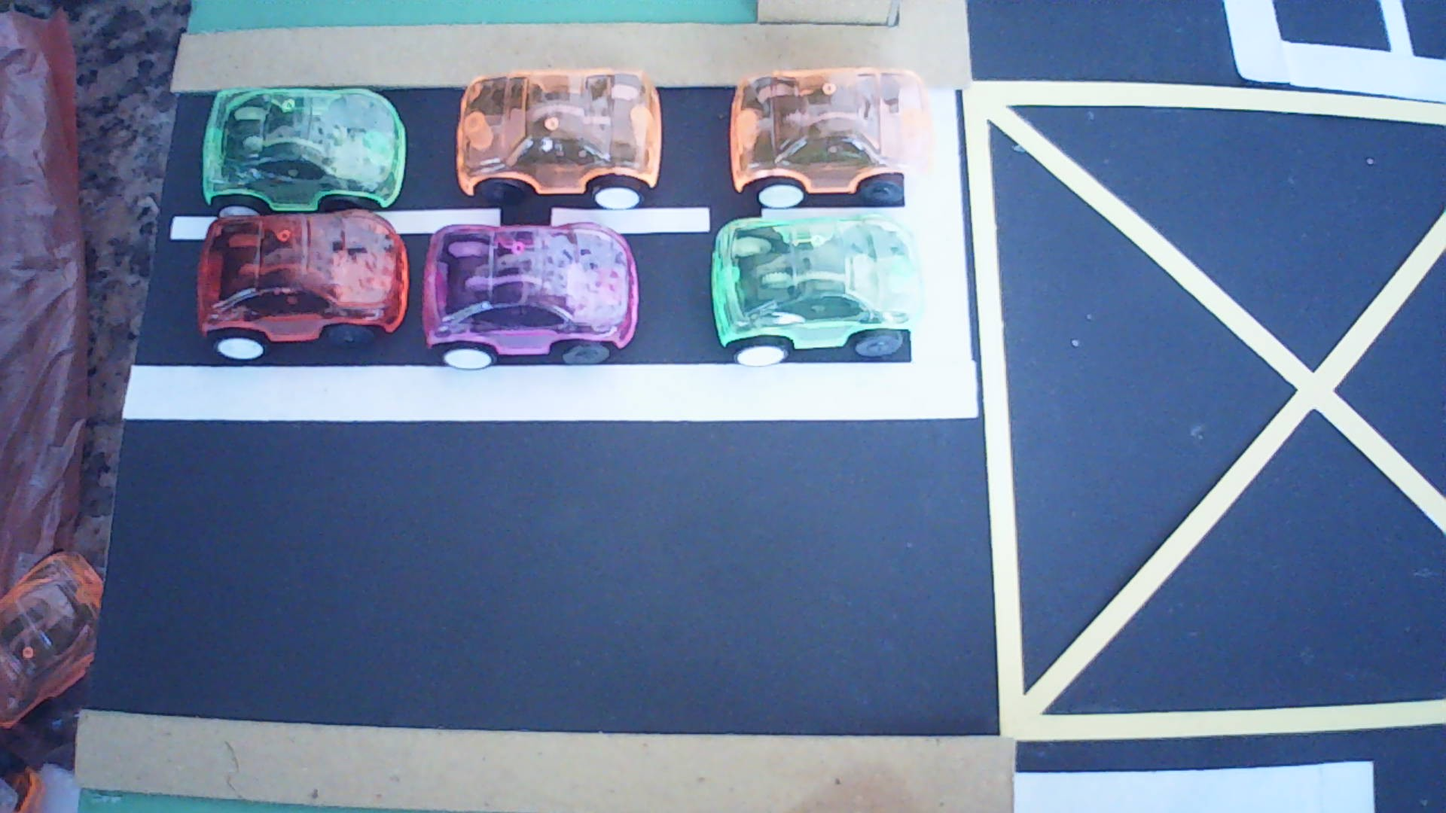Mobil hijau: (712, 215, 923, 366), (202, 89, 406, 216)
Mobil merah: (197, 210, 409, 361)
Mobil orange: (455, 69, 662, 209), (730, 67, 932, 208)
Mobil ungu: (423, 224, 639, 369)
